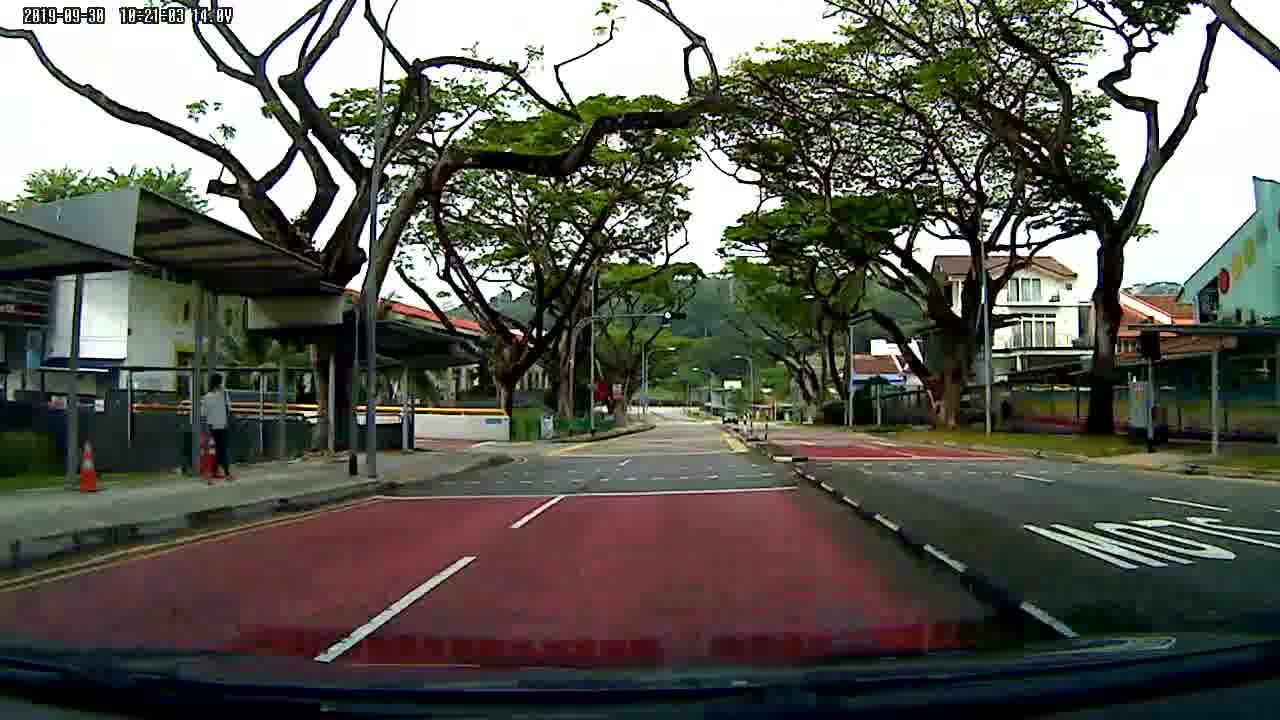car: (722, 409, 742, 426)
